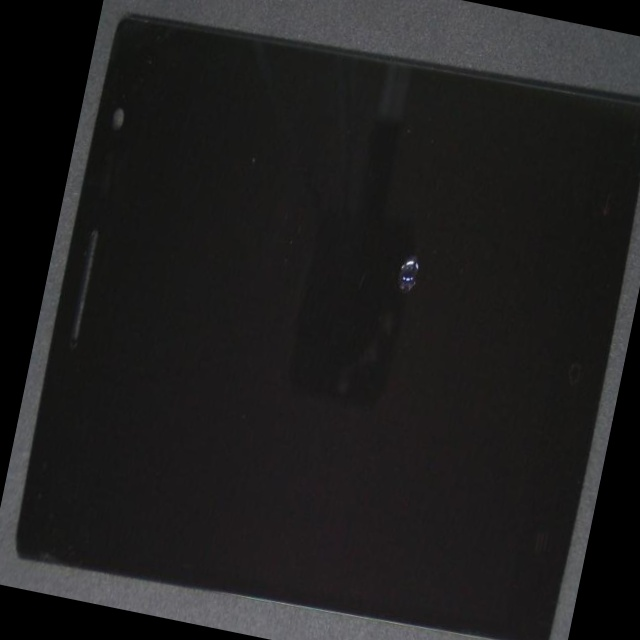oil: (241, 101, 609, 391)
